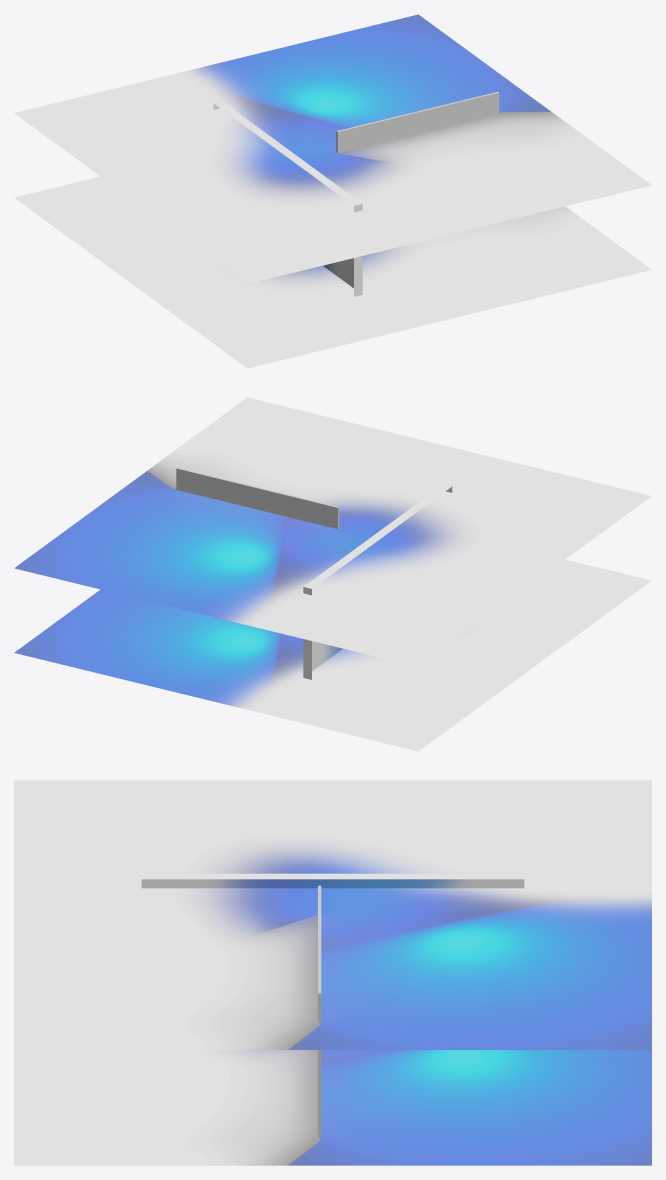
3 renders of one model, top to bottom at view 1: azimuth 30°, elevation 25°; view 2: azimuth 150°, elevation 25°; view 3: azimuth 270°, elevation 25°, orthographic. The views are drawn at different scales.
Visible parts, largest first — view 1: Plane.000, Plane.011, Plane.008, Plane.010; view 2: Plane.000, Plane.011, Plane.008, Plane.010; view 3: Plane.000, Plane.011, Plane.010, Plane.008.
Part boxes in pixels (<box>): Plane.000: <box>14,14,651,283</box>; Plane.011: <box>14,176,651,368</box>; Plane.008: <box>336,91,499,153</box>; Plane.010: <box>213,101,362,296</box>; Plane.000: <box>14,397,651,666</box>; Plane.011: <box>14,559,651,751</box>; Plane.008: <box>176,467,339,529</box>; Plane.010: <box>303,484,452,679</box>; Plane.000: <box>14,780,651,1049</box>; Plane.011: <box>14,1050,651,1165</box>; Plane.010: <box>141,873,524,888</box>; Plane.008: <box>318,885,321,1137</box>.
Size of the model in its own units: 20 by 5.96 by 20.
Materials: 3 (2 with a texture image).
